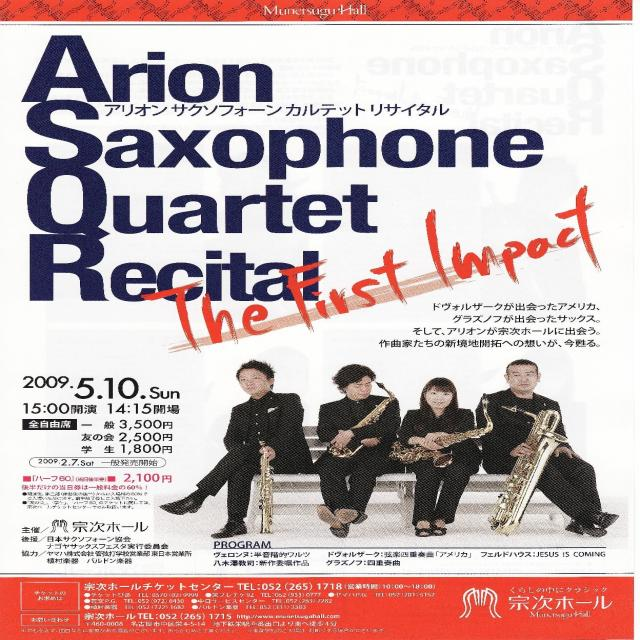saxophone: (387, 390, 494, 468), (326, 381, 398, 461), (255, 422, 278, 537)
